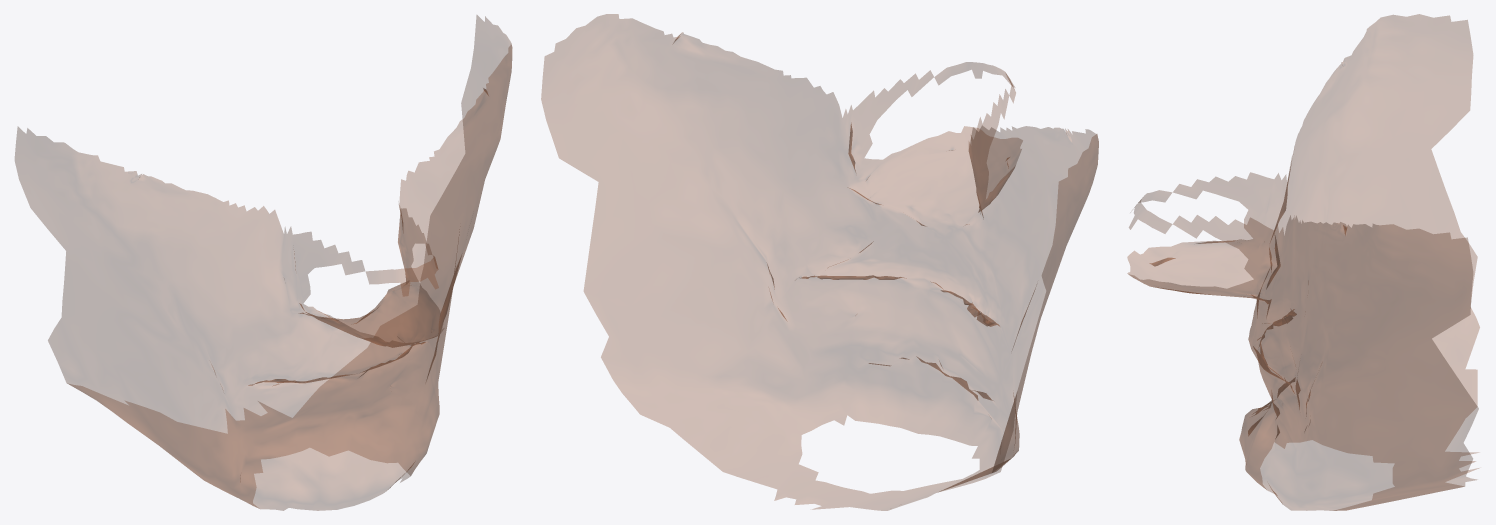
The model's file is kopf.bart.stoppeln.glb.
3 renders of one model, left to right at view 1: azimuth 30°, elevation 25°; view 2: azimuth 150°, elevation 25°; view 3: azimuth 270°, elevation 25°, orthographic. The views are drawn at different scales.
Parts seen in each view (by area): view 1: bart; view 2: bart; view 3: bart.
Boxes of the visible parts, x1,y1,x2,y2 form: bart: (15,15,512,510); bart: (541,14,1098,510); bart: (1127,14,1479,510).
Size of the model in its own units: 0.1605 by 0.1232 by 0.1104.
